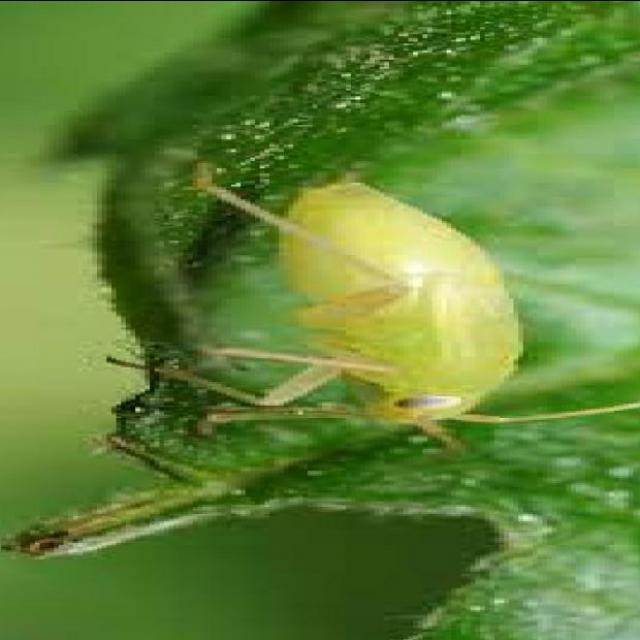Aphids: (107, 140, 612, 456)
